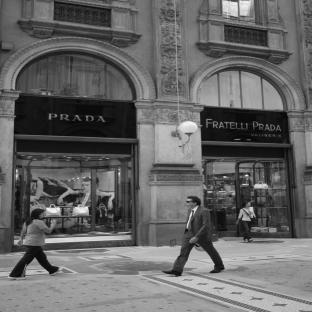Human: (163, 196, 224, 276), (8, 208, 61, 280), (235, 201, 256, 242)
